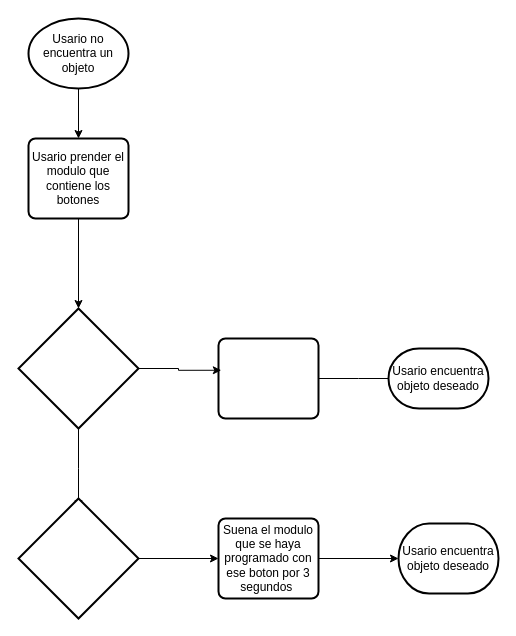
The diagram is 516 pixels wide and 636 high, and some of its shapes have lost their labels. The shapes that lost their labels are listed below. From the top down, each one's centre as x and y in pixels, then its label:
At point (78, 368): "Usario presiona el boton 1".
At point (268, 378): "Suena el modulo que se haya programado con ese botón por 3 segundos".
At point (78, 558): "Usario presiona el boton 2".
